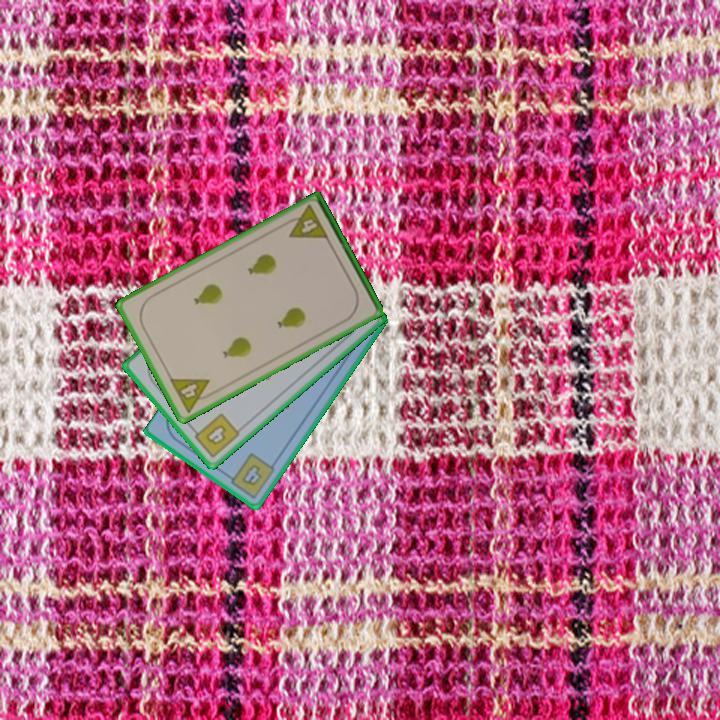4b: (223, 450, 278, 502), (187, 410, 243, 461)
4p: (166, 375, 218, 416), (280, 201, 331, 242)
